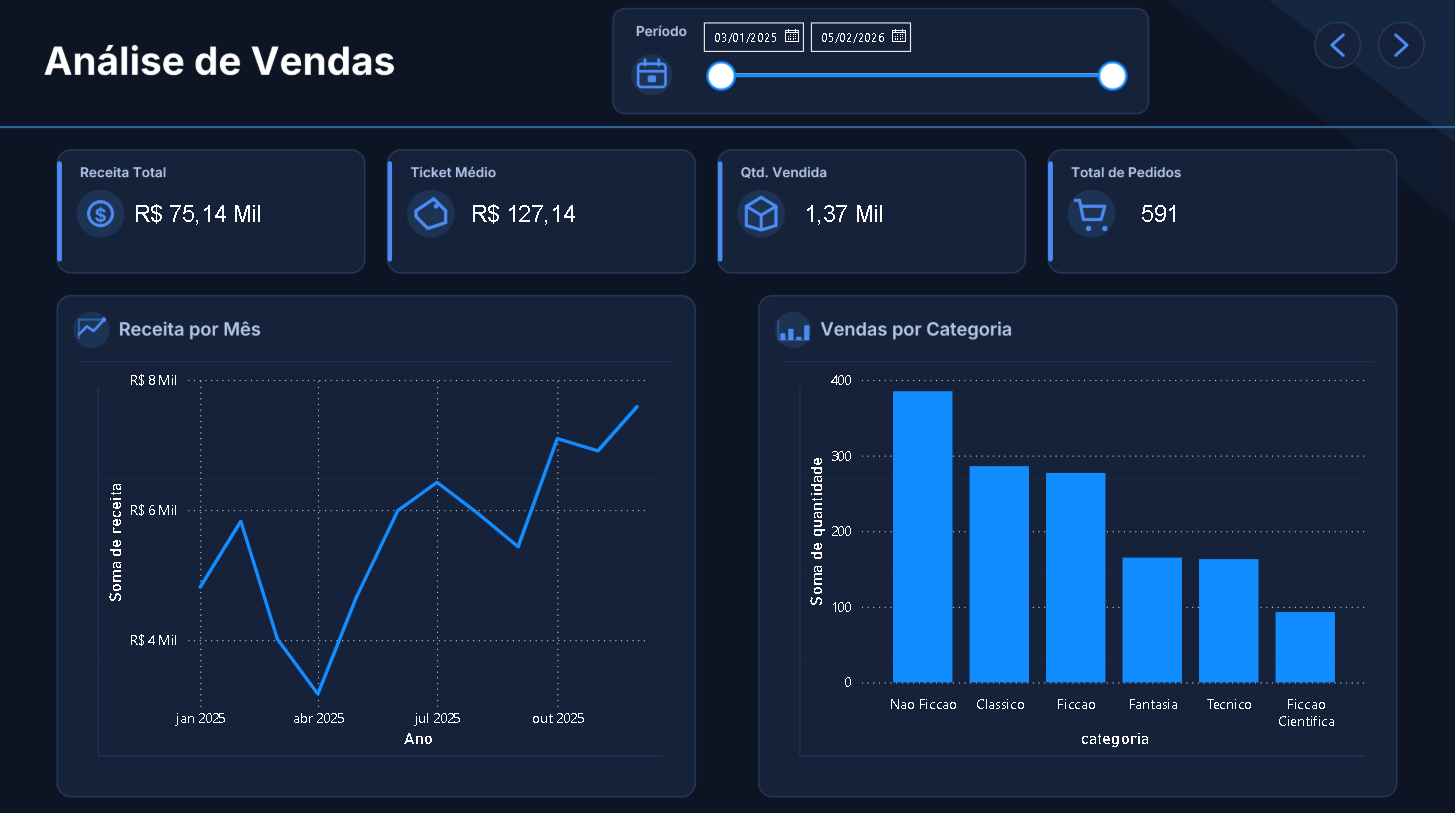

This screenshot's page, from the dashboard's own definition file:
{"tool":"powerbi","page":{"name":"Página 1","canvas":[1280,720],"ordinal":0},"visuals":[{"type":"cardVisual","fields":{"Data":["baseVendas.ticket_medio"]},"box":[346,148,230.9,82],"z":0},{"type":"lineChart","fields":{"Category":["calendario.Date.Variation.Hierarquia de datas.Ano","calendario.Date.Variation.Hierarquia de datas.Mês"],"Y":["Sum(baseVendas.receita)"]},"box":[89.6,322.2,499.6,341.6],"z":1000},{"type":"cardVisual","fields":{"Data":["baseVendas.receita_total"]},"box":[54.4,148.4,242.3,82.5],"z":2000},{"type":"cardVisual","fields":{"Data":["Sum(baseVendas.quantidade)"]},"box":[634.8,148,215.1,82.5],"z":3000},{"type":"cardVisual","fields":{"Data":["baseVendas.Total de Pedidos"]},"box":[926.3,148,188.8,82.5],"z":4000},{"type":"columnChart","fields":{"Category":["baseVendas.categoria"],"Y":["Sum(baseVendas.quantidade)"]},"box":[705.1,322.2,502.2,341.6],"z":5000},{"type":"slicer","fields":{"Values":["calendario.Date"]},"box":[606.7,12.3,393.4,91.3],"z":6000},{"type":"actionButton","box":[1207.3,20.2,48.3,45.7],"z":7000},{"type":"cardVisual","fields":{"Data":["baseVendas.Comparacao_Texto"]},"box":[78.1,188.8,208.1,50],"z":8000}]}

Visuals, with their boxes in screenshot pixels (x1, y1, x2, y2), scaled from the page's 1280x720 canvas onto the 1455x813 screenshot:
cardVisual - baseVendas.ticket_medio: 393 167 656 260
lineChart - calendario.Date.Variation.Hierarquia de datas.Ano x calendario.Date.Variation.Hierarquia de datas.Mês: 102 364 670 750
cardVisual - baseVendas.receita_total: 62 168 337 261
cardVisual - Sum(baseVendas.quantidade): 722 167 966 260
cardVisual - baseVendas.Total de Pedidos: 1053 167 1268 260
columnChart - baseVendas.categoria x Sum(baseVendas.quantidade): 802 364 1372 750
slicer - calendario.Date: 690 14 1137 117
actionButton: 1372 23 1427 74
cardVisual - baseVendas.Comparacao_Texto: 89 213 325 270
